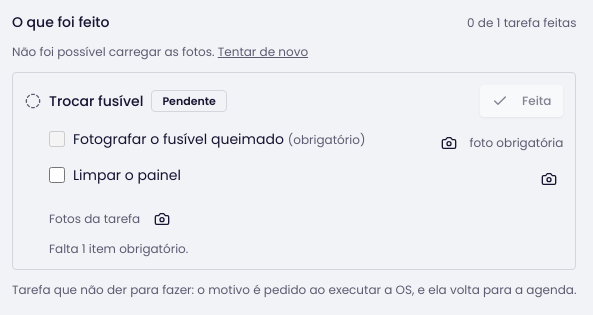
Test case: OQueFoiFeito: fotos › falha ao carregar as fotos não vira "sem foto": avisa e deixa tentar de novo
The image size is (593, 315).
Expected: the text "Não foi possível carregar as fotos. Tentar de novo" is shown, [12,43,308,60]
Step 1. Click the button "Tentar de novo" → (263, 52), box [218,44,308,60]
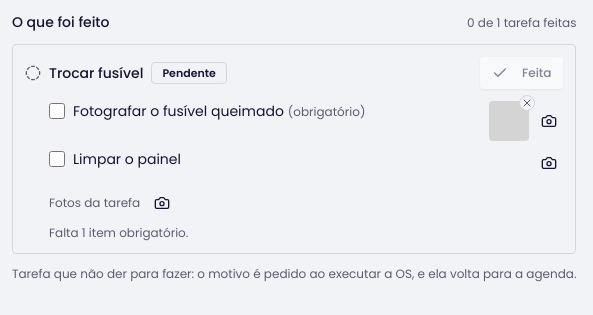
Expected: the checkbox labelled "Fotografar o fusível queimado" is enabled, [49,103,65,119]
